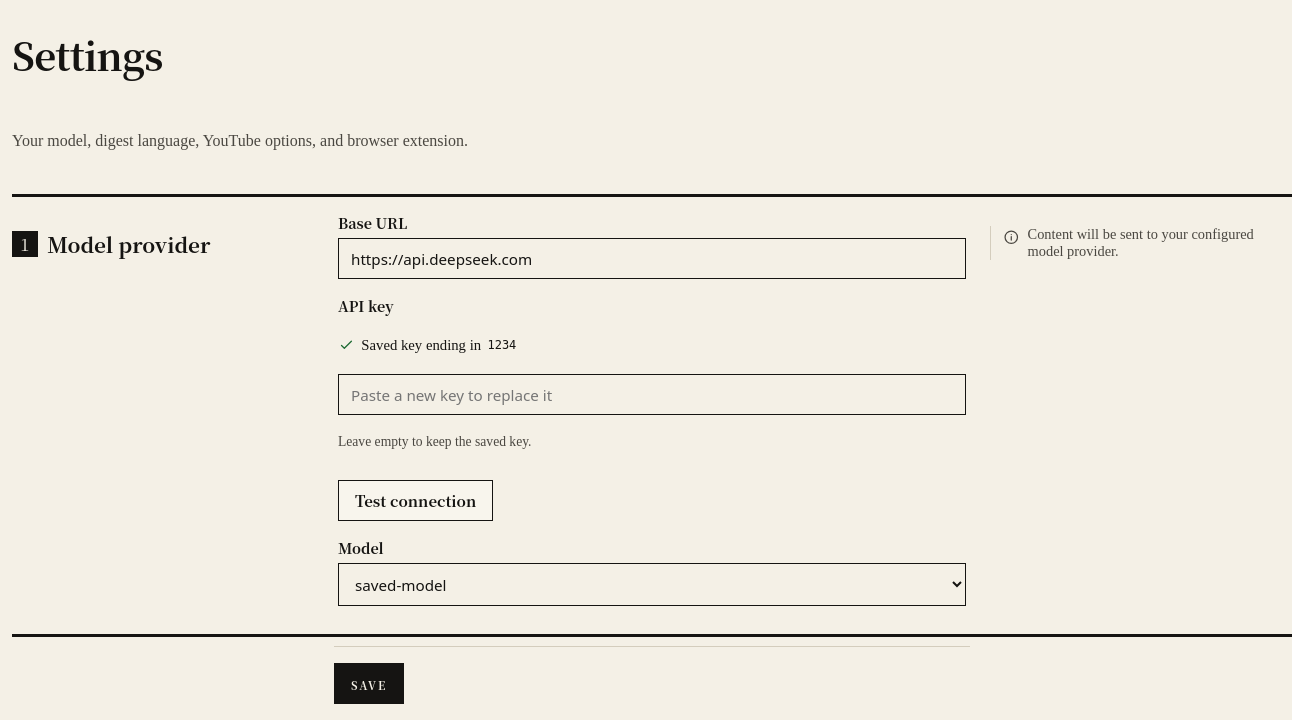
model settings › links a connection failure to the base URL instead of the key
The image size is (1292, 720).
Expected: the field labelled "Base URL" is shown, 338,238 -> 966,279
Click the button "Test connection". click: [416, 500]
box: 338,480 -> 493,521
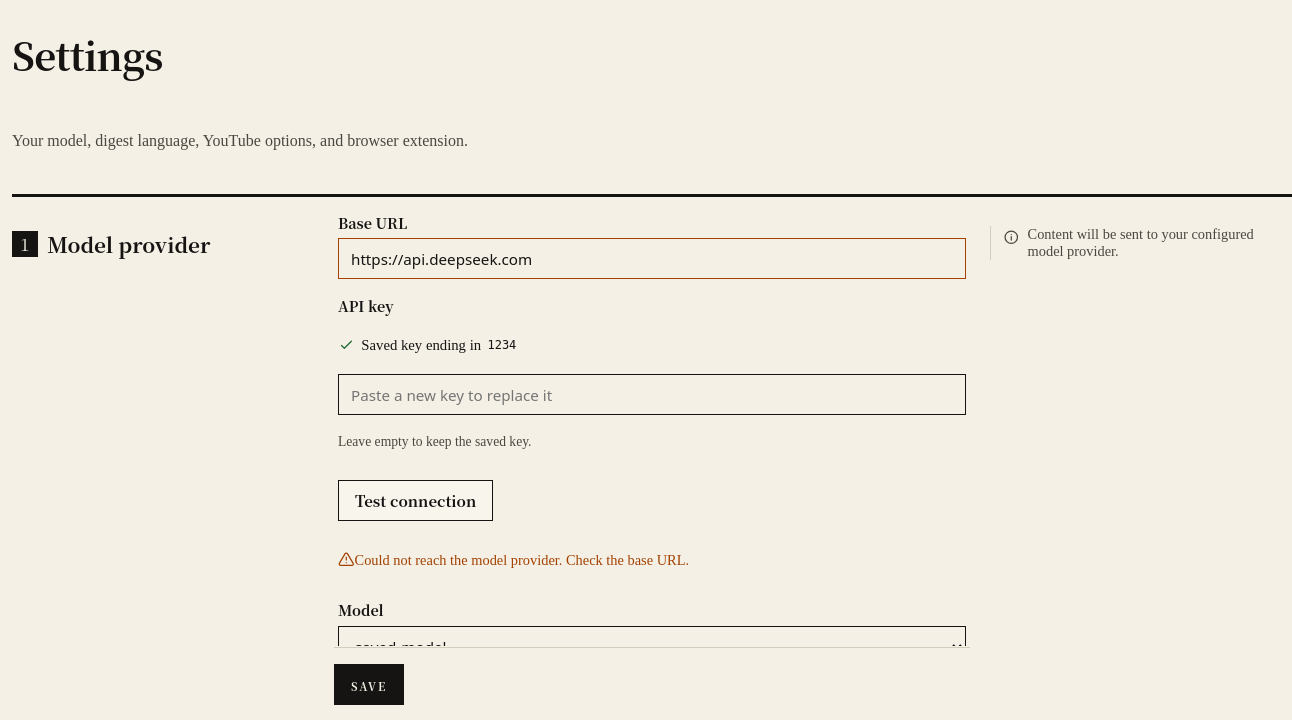
Expected: the message shows "Could not reach the model provider", 354,552 -> 689,568
